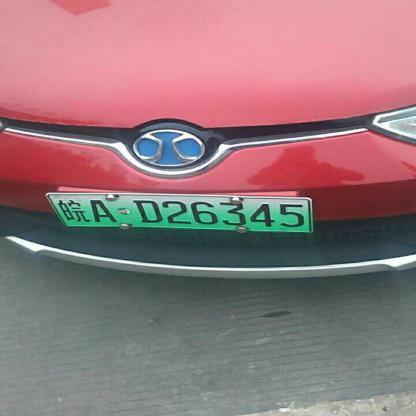lp: (46, 192, 66, 230)
